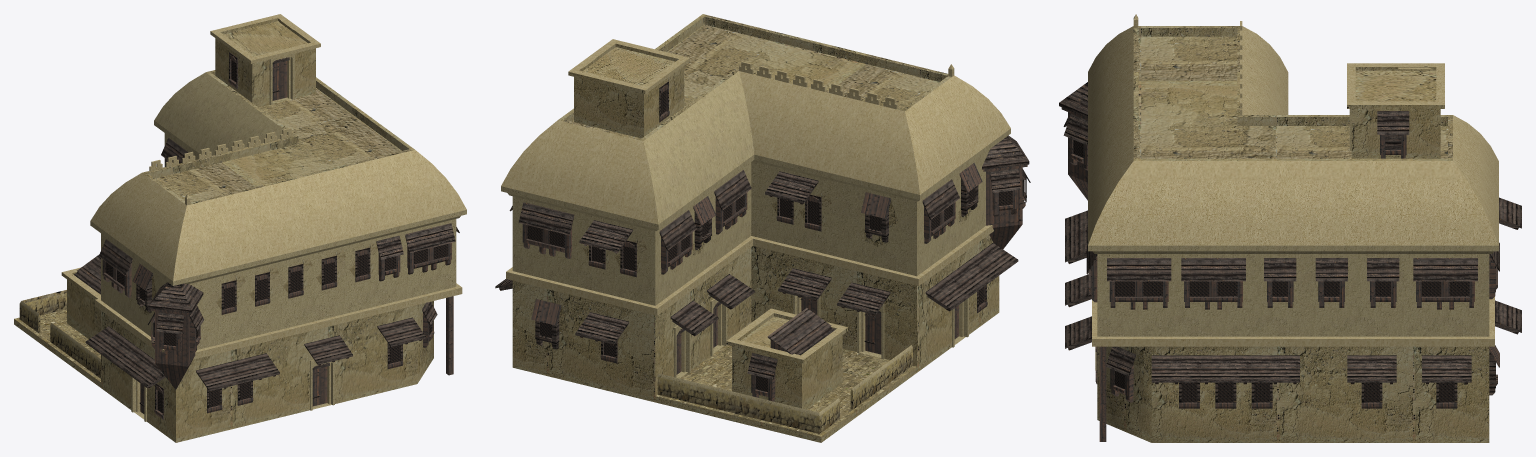
File: Building01.fbx
The picture shows the model from 3 angles, left to right: view 1: azimuth 30°, elevation 25°; view 2: azimuth 150°, elevation 25°; view 3: azimuth 270°, elevation 25°; orthographic projection. The views are drawn at different scales.
Visible parts, largest first — view 1: Building01; view 2: Building01; view 3: Building01.
Part boxes in pixels (<box>): Building01: <box>14,14,466,442</box>; Building01: <box>495,14,1030,442</box>; Building01: <box>1059,14,1521,442</box>.
Bounding box in the file's own units: 19146 × 14563 × 19146.
